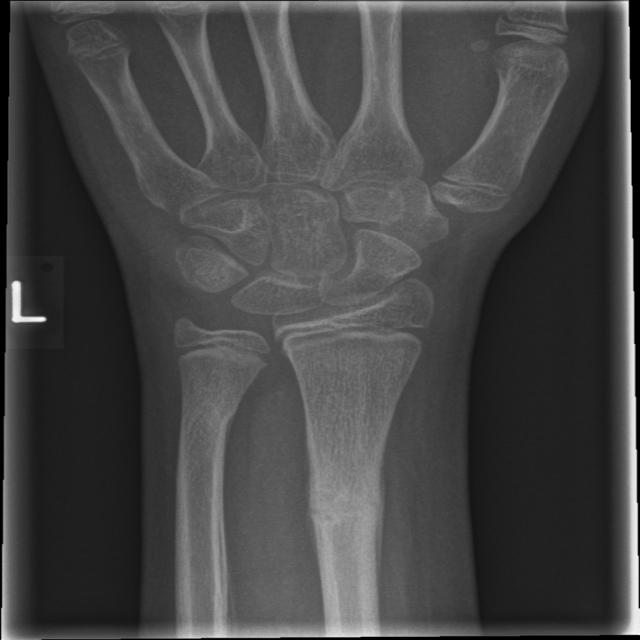radius fracture: (290, 439, 424, 598)
ulna fracture: (193, 356, 282, 484)
